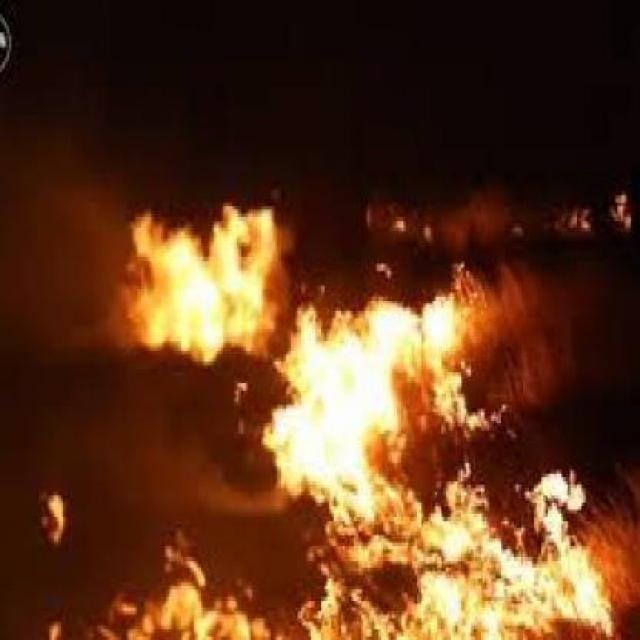Fire: (143, 269, 640, 632), (90, 171, 298, 396)
